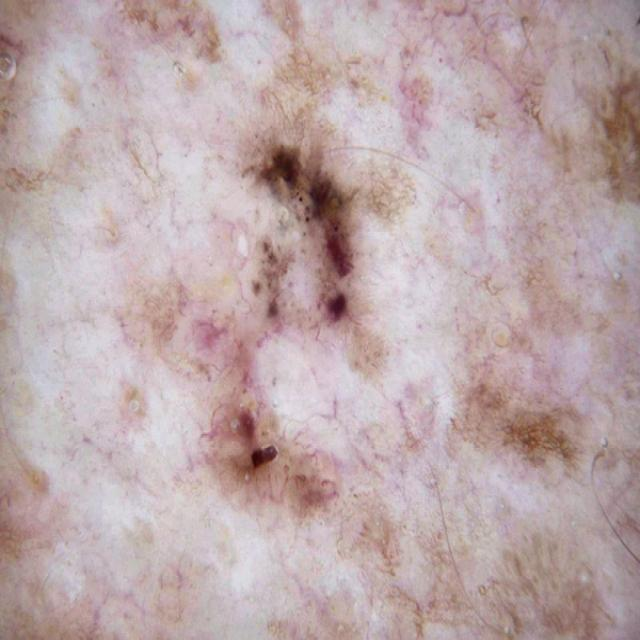Basal-Cell-Carcinoma-BCC-: (136, 103, 515, 580)
